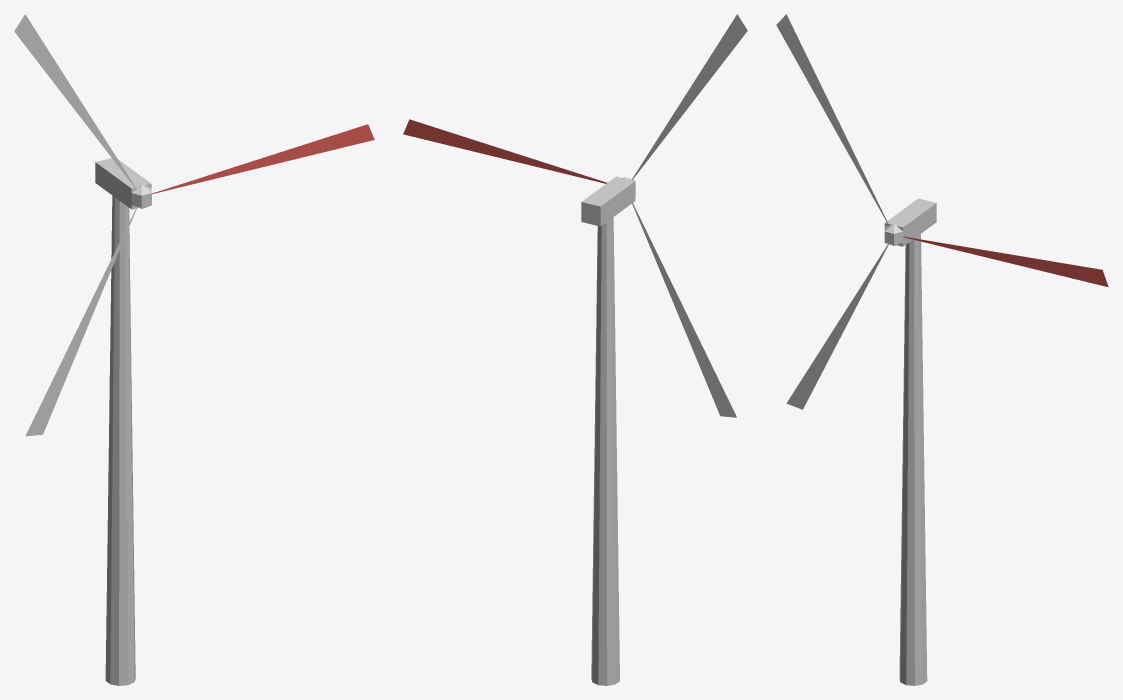
File: sadamine_small_turbine.glb
The picture shows the model from 3 angles, left to right: view 1: azimuth 30°, elevation 25°; view 2: azimuth 150°, elevation 25°; view 3: azimuth 330°, elevation 25°; orthographic projection. The views are drawn at different scales.
Visible parts, largest first — view 1: sadamine_small_turbine; view 2: sadamine_small_turbine; view 3: sadamine_small_turbine.
Boxes of the visible parts, box(x1,y1,x2,y2) form: sadamine_small_turbine: box(14, 14, 374, 685); sadamine_small_turbine: box(403, 14, 747, 685); sadamine_small_turbine: box(776, 14, 1108, 685).
Bounding box in the file's own units: 10.83 × 20.36 × 2.16.
